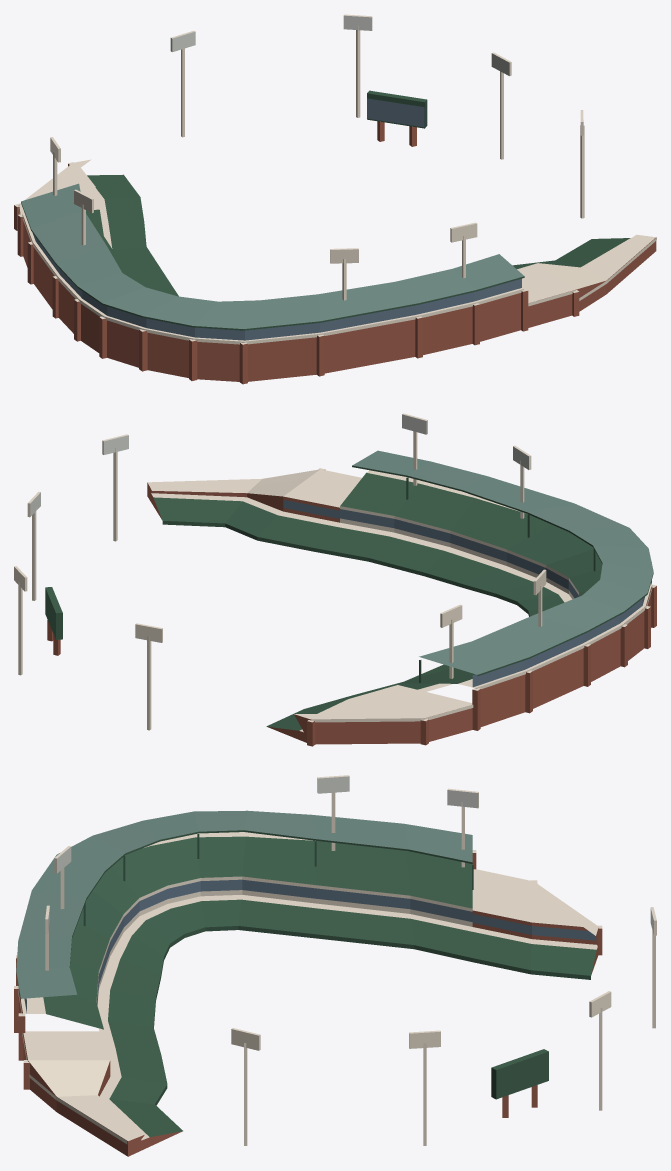
File: indy-victory-field.glb
3 views of the same model, one above another, from view 1: azimuth 30°, elevation 25°; view 2: azimuth 150°, elevation 25°; view 3: azimuth 270°, elevation 25° (orthographic). The views are drawn at different scales.
Parts seen in each view (by area): view 1: Victory Field; view 2: Victory Field; view 3: Victory Field.
Boxes of the visible parts, x1,y1,x2,y2 form: Victory Field: (14, 14, 656, 384); Victory Field: (14, 413, 656, 746); Victory Field: (14, 775, 656, 1156).
Size of the model in its own units: 178 by 34.9 by 168.
